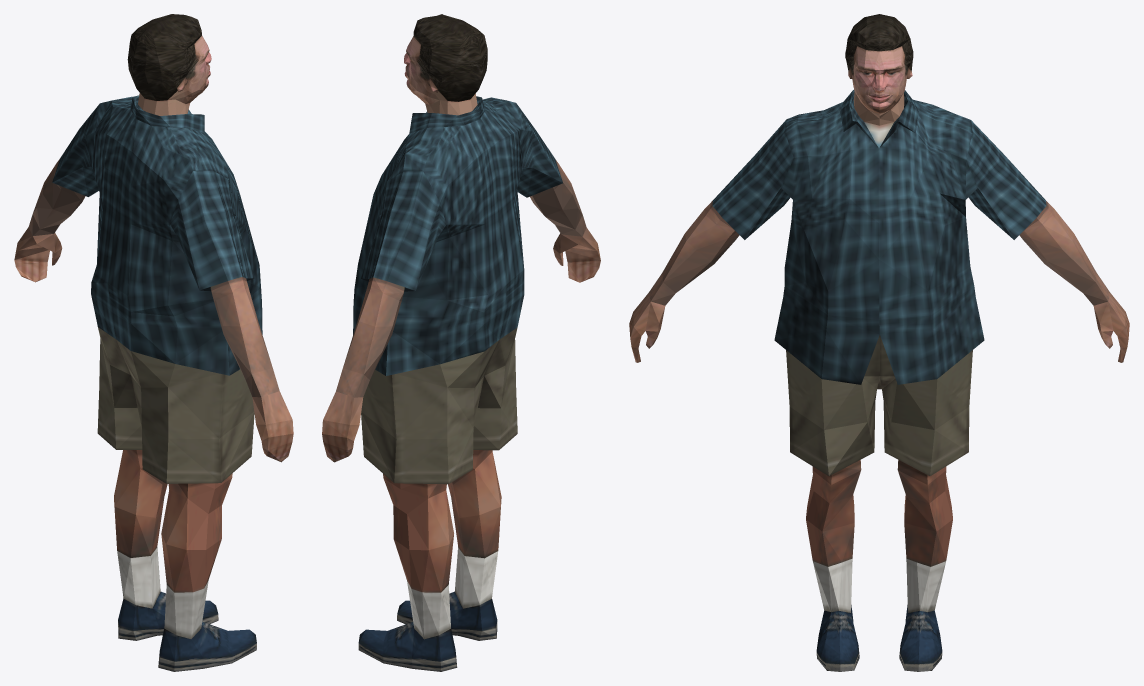
The model's file is heck2.obj.
3 views of the same model, side by side, from view 1: azimuth 30°, elevation 25°; view 2: azimuth 150°, elevation 25°; view 3: azimuth 270°, elevation 25° (orthographic).
Visible parts, largest first — view 1: _Pelvis; view 2: _Pelvis; view 3: _Pelvis.
Part boxes in pixels (x1,y1,x2,y2): _Pelvis: (14, 14, 293, 671); _Pelvis: (322, 14, 600, 671); _Pelvis: (629, 14, 1129, 671).
Size of the model in its own units: 0.4198 by 1.86 by 1.35.
Materials: 1 (1 with a texture image).
